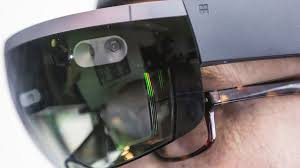hololens: (3, 1, 246, 168)
